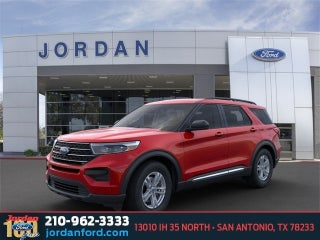Ford Explorer: (46, 97, 282, 218)
